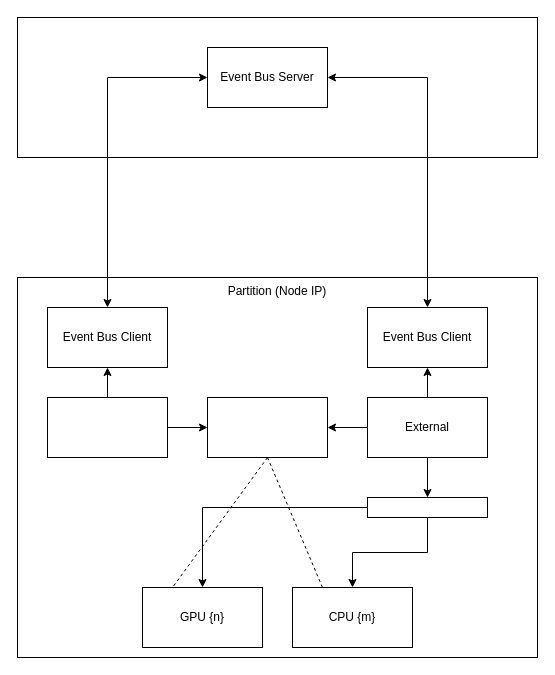
The diagram is 555 pixels wide and 675 high, and some of its shapes have lost their labels. Each missing label, with the box of its shape:
Device Shared Memory: (206, 396, 328, 458)
Head Node: (16, 16, 538, 158)
Internal: (46, 396, 168, 458)
XLA: (366, 496, 488, 518)
